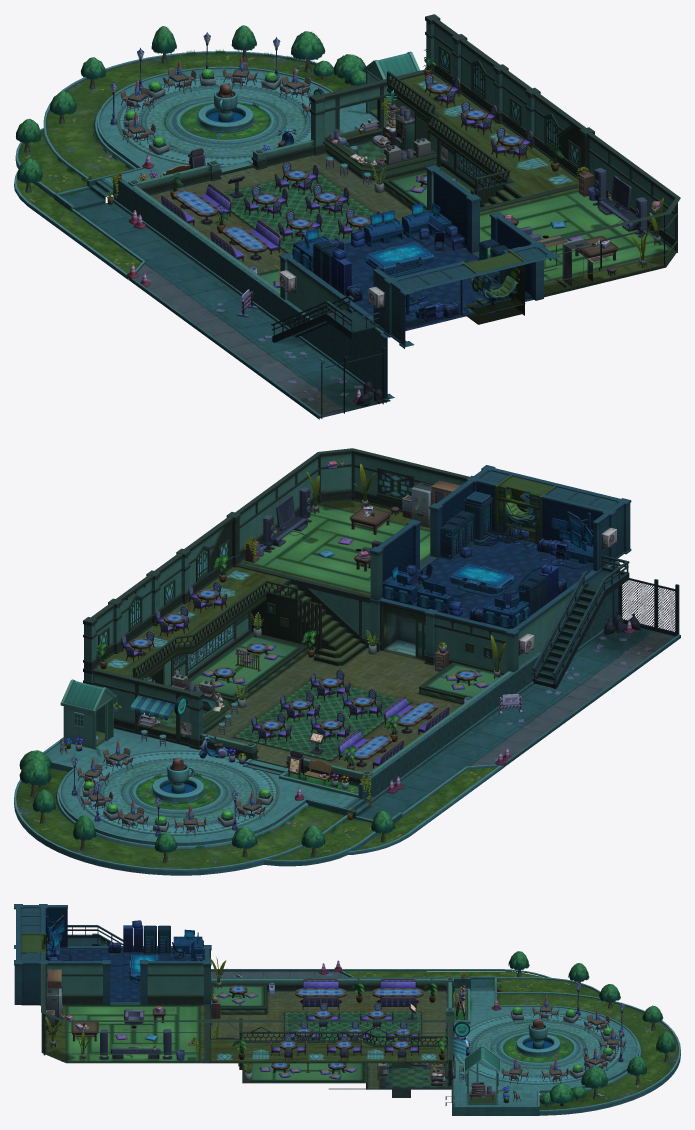
Rendered from febg_coffeeshop_001_03.glb.
3 views of the same model, one above another, from view 1: azimuth 30°, elevation 25°; view 2: azimuth 150°, elevation 25°; view 3: azimuth 270°, elevation 25° (orthographic). The views are drawn at different scales.
Parts seen in each view (by area): view 1: febg_coffeeshop_001_wall_01, febg_coffeeshop_001_bg_01, febg_coffeeshop_001_bg_02, febg_coffeeshop_001_wall_02, febg_coffeeshop_001_bg_03, febg_coffeeshop_001_bg_05, febg_coffeeshop_television_01, febg_coffeeshop_table_01 (1), febg_coffeeshop_table_01, febg_coffeeshop_001_tree_03 (4), febg_coffeeshop_beveragemachine_01; view 2: febg_coffeeshop_001_wall_01, febg_coffeeshop_001_bg_01, febg_coffeeshop_001_bg_02, febg_coffeeshop_001_wall_02, febg_coffeeshop_001_bg_03, febg_coffeeshop_001_bg_05, febg_coffeeshop_001_wall_03, febg_coffeeshop_television_01, febg_coffeeshop_refrigerator_01, febg_coffeeshop_table_01 (1), febg_coffeeshop_table_01, febg_coffeeshop_001_tree_03 (4) (+1 smaller); view 3: febg_coffeeshop_001_bg_01, febg_coffeeshop_001_bg_02, febg_coffeeshop_001_wall_01, febg_coffeeshop_001_bg_03, febg_coffeeshop_001_wall_02, febg_coffeeshop_001_bg_05, febg_coffeeshop_television_01, febg_coffeeshop_table_01 (1), febg_coffeeshop_001_tree_03 (4), febg_coffeeshop_table_01, febg_coffeeshop_refrigerator_01, febg_coffeeshop_001_tree_01 (3) (+6 smaller).
Part boxes in pixels (<box>): febg_coffeeshop_001_wall_01: <box>113,14,680,418</box>; febg_coffeeshop_001_bg_01: <box>60,68,675,419</box>; febg_coffeeshop_001_bg_02: <box>14,51,533,330</box>; febg_coffeeshop_001_wall_02: <box>292,51,526,324</box>; febg_coffeeshop_001_bg_03: <box>16,53,356,273</box>; febg_coffeeshop_001_bg_05: <box>134,263,346,418</box>; febg_coffeeshop_television_01: <box>598,175,636,231</box>; febg_coffeeshop_table_01 (1): <box>222,225,267,260</box>; febg_coffeeshop_table_01: <box>173,189,218,224</box>; febg_coffeeshop_001_tree_03 (4): <box>291,31,325,60</box>; febg_coffeeshop_beveragemachine_01: <box>395,115,414,152</box>; febg_coffeeshop_001_wall_01: <box>83,448,679,802</box>; febg_coffeeshop_001_bg_01: <box>43,499,680,841</box>; febg_coffeeshop_001_bg_02: <box>14,534,593,875</box>; febg_coffeeshop_001_wall_02: <box>60,475,593,749</box>; febg_coffeeshop_001_bg_03: <box>16,767,496,868</box>; febg_coffeeshop_001_bg_05: <box>470,631,675,766</box>; febg_coffeeshop_001_wall_03: <box>621,580,675,632</box>; febg_coffeeshop_television_01: <box>273,495,309,546</box>; febg_coffeeshop_refrigerator_01: <box>411,482,432,527</box>; febg_coffeeshop_table_01 (1): <box>396,701,437,733</box>; febg_coffeeshop_table_01: <box>351,734,392,767</box>; febg_coffeeshop_001_tree_03 (4): <box>19,758,51,785</box>; febg_coffeeshop_001_bg_01: <box>41,969,637,1115</box>; febg_coffeeshop_001_bg_02: <box>46,949,680,1115</box>; febg_coffeeshop_001_wall_01: <box>14,904,470,1105</box>; febg_coffeeshop_001_bg_03: <box>343,971,678,1109</box>; febg_coffeeshop_001_wall_02: <box>21,915,500,1103</box>; febg_coffeeshop_001_bg_05: <box>211,971,348,977</box>; febg_coffeeshop_television_01: <box>111,1029,160,1058</box>; febg_coffeeshop_table_01 (1): <box>295,988,346,1003</box>; febg_coffeeshop_001_tree_03 (4): <box>581,1066,607,1088</box>; febg_coffeeshop_table_01: <box>372,988,423,1003</box>; febg_coffeeshop_refrigerator_01: <box>46,988,62,1025</box>; febg_coffeeshop_001_tree_01 (3): <box>549,1083,574,1106</box>.
Size of the model in its own units: 45.93 by 14.12 by 88.85.
Materials: 14 (13 with a texture image).
